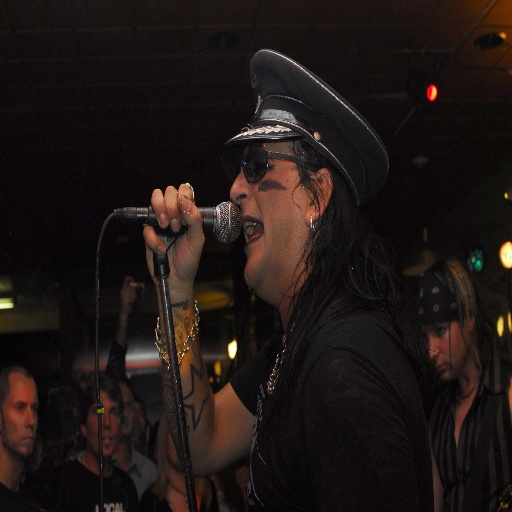hand: (146, 183, 204, 288), (119, 275, 140, 315)
